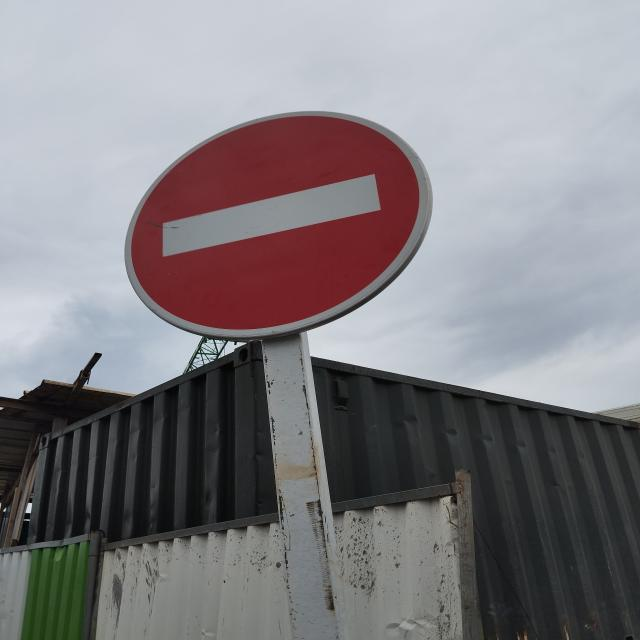Sens-Interdit: (119, 107, 434, 340)
